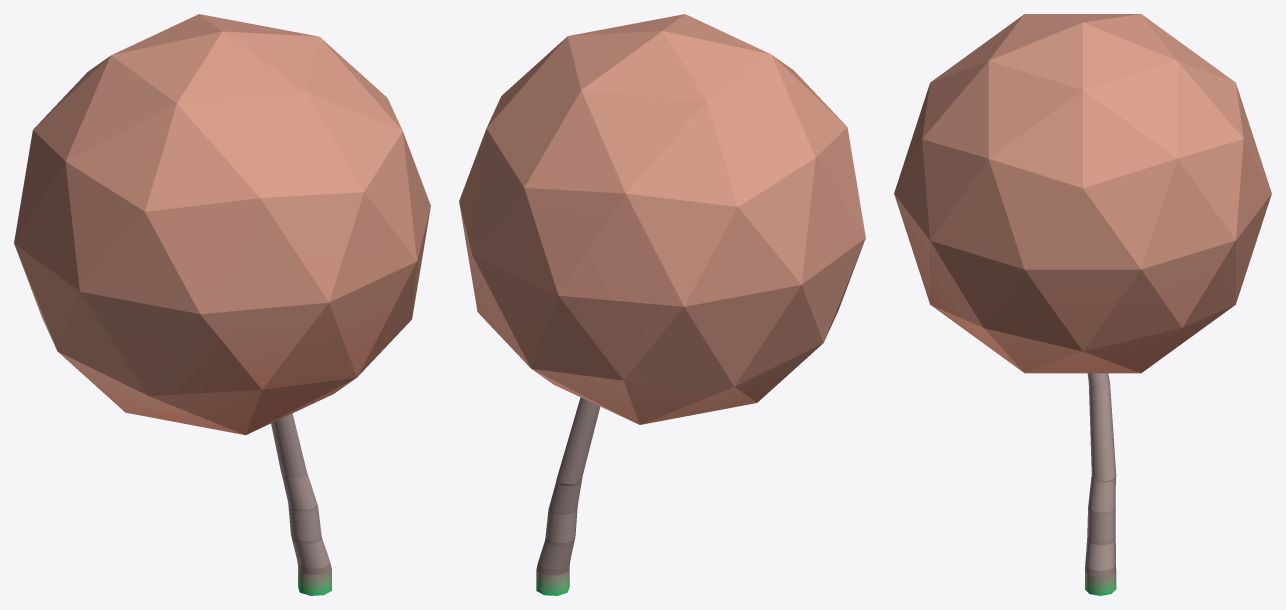
Rendered from mdl_env_1_forest_tree_g_v01.fbx.
The picture shows the model from 3 angles, left to right: view 1: azimuth 30°, elevation 25°; view 2: azimuth 150°, elevation 25°; view 3: azimuth 270°, elevation 25°; orthographic projection. The views are drawn at different scales.
Visible parts, largest first — view 1: mdl_env_1_forest_tree_g_v01; view 2: mdl_env_1_forest_tree_g_v01; view 3: mdl_env_1_forest_tree_g_v01.
Boxes of the visible parts, box(x1,y1,x2,y2) form: mdl_env_1_forest_tree_g_v01: box(14, 14, 430, 595); mdl_env_1_forest_tree_g_v01: box(459, 14, 865, 595); mdl_env_1_forest_tree_g_v01: box(894, 14, 1271, 595).
Size of the model in its own units: 10.99 by 17.63 by 11.55.
